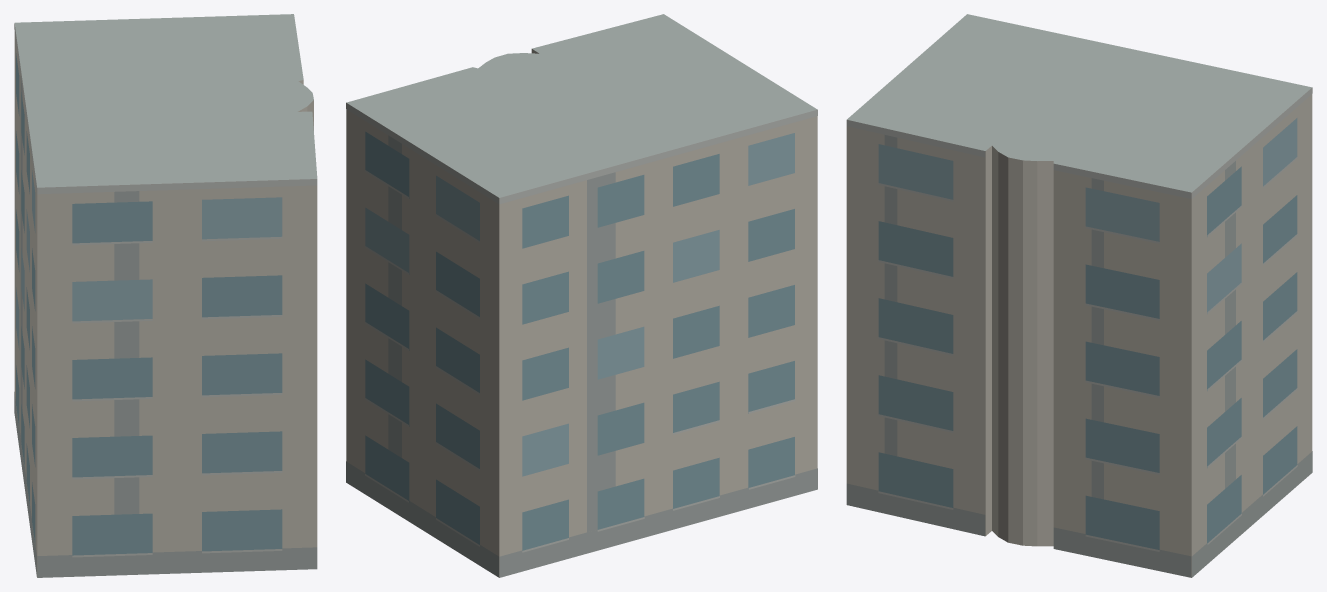
Rendered from survey-upis-32727156.glb.
3 renders of one model, left to right at view 1: azimuth 30°, elevation 25°; view 2: azimuth 150°, elevation 25°; view 3: azimuth 270°, elevation 25°, orthographic. The views are drawn at different scales.
Parts seen in each view (by area): view 1: survey-upis-32727156.tmp; view 2: survey-upis-32727156.tmp; view 3: survey-upis-32727156.tmp.
Part boxes in pixels (<box>): survey-upis-32727156.tmp: <box>14,14,317,577</box>; survey-upis-32727156.tmp: <box>346,14,817,577</box>; survey-upis-32727156.tmp: <box>846,14,1312,577</box>.
Size of the model in its own units: 14.42 by 14.5 by 15.89.
